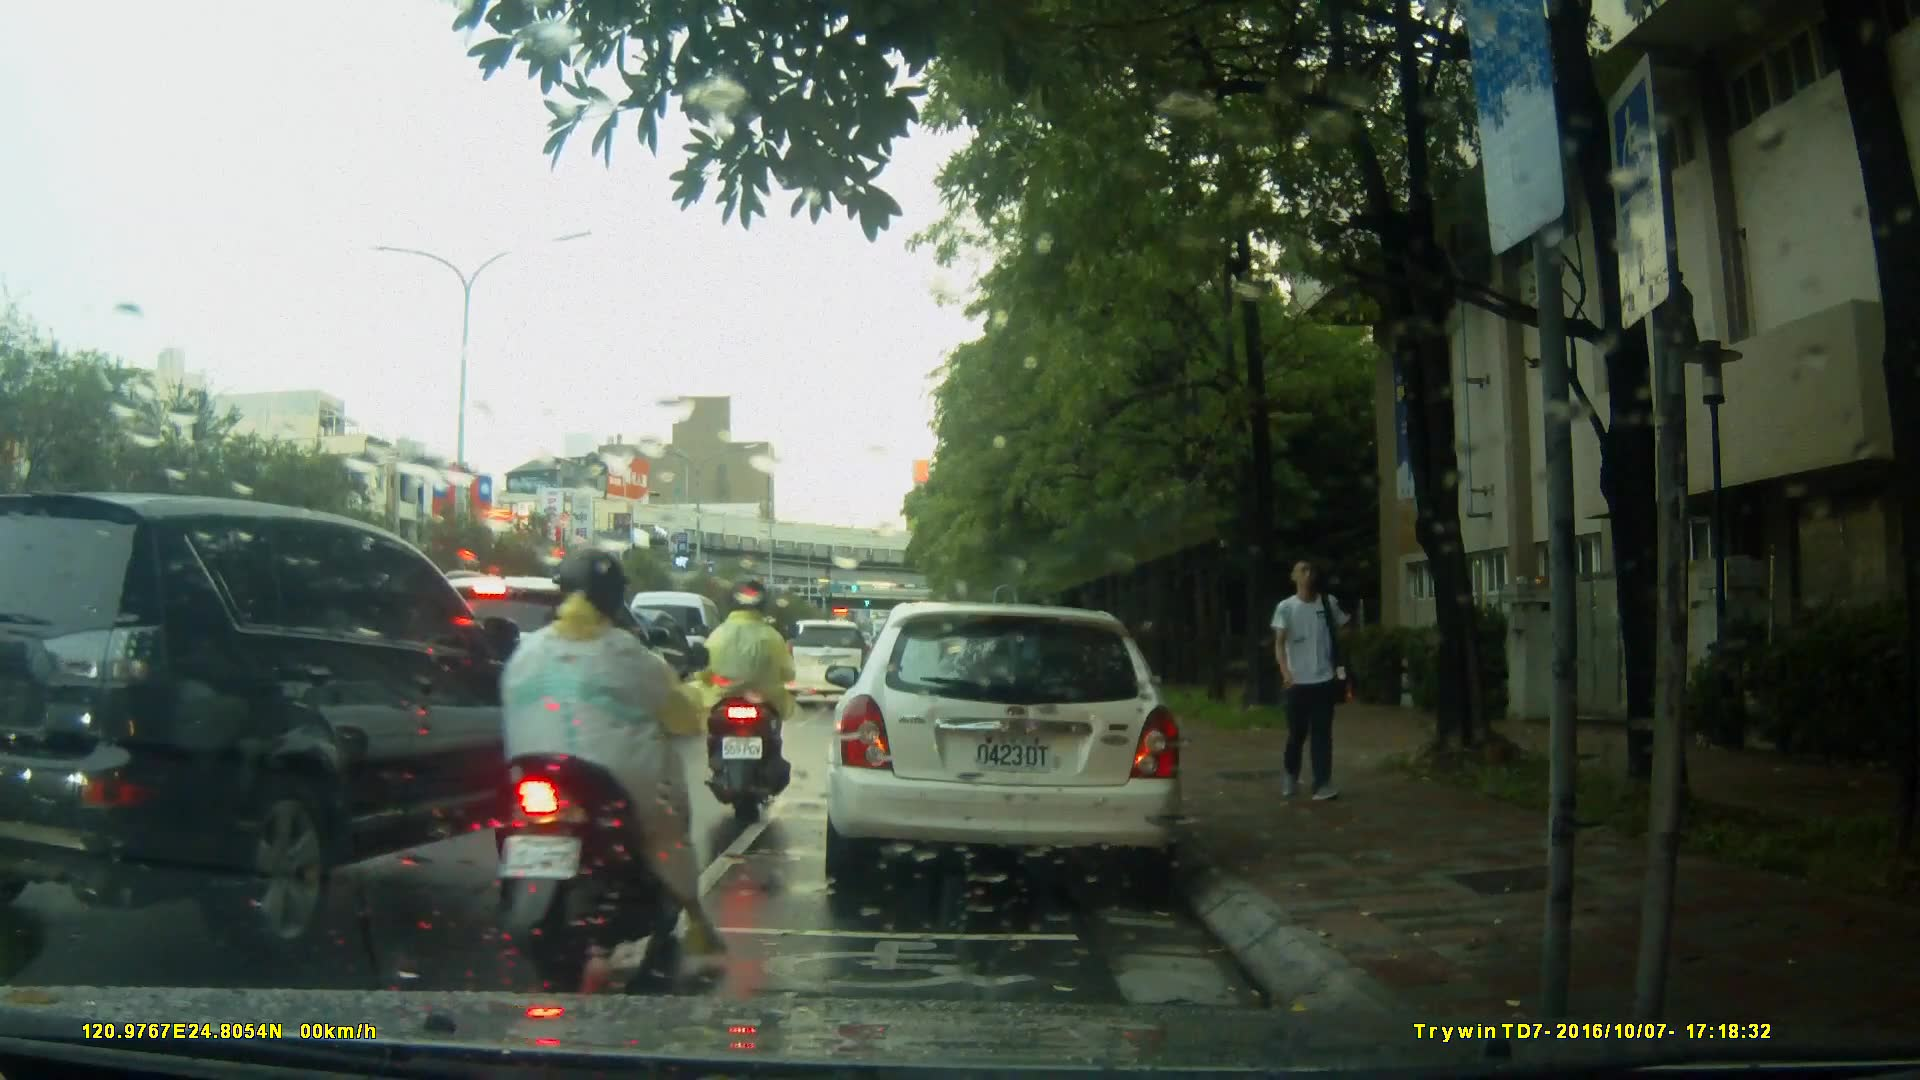pedestrian: (1248, 553, 1353, 813)
rider: (502, 545, 722, 984), (692, 582, 805, 821)
vehicle: (1, 488, 584, 956), (820, 602, 1188, 898), (377, 569, 677, 778), (621, 589, 737, 714), (770, 617, 877, 709)
